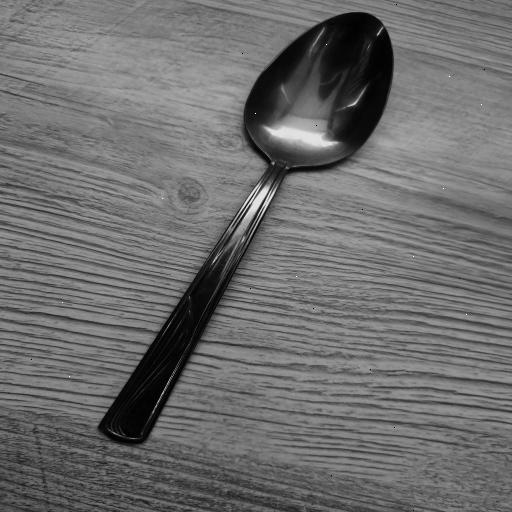spoon: (92, 9, 396, 444)
